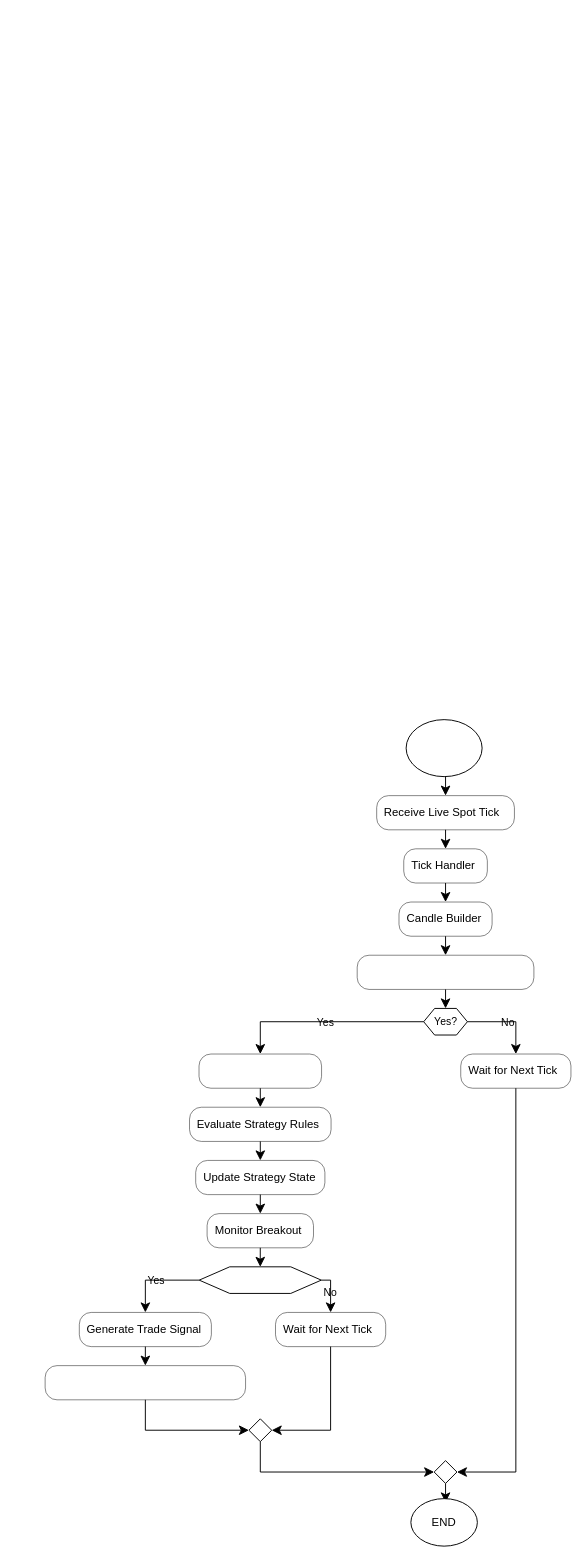
This 587x1563 diagram has some shape labels left out. The centre of each missing label's shape, as x and y in pixels:
"Breakout Confirmed?" belongs at pixel 259 1279.
"Calculate Indicators" belongs at pixel 259 1070.
"Is 5-Minute Candle Complete?" belongs at pixel 445 972.
"Send Signal to Virtual Trade Engine" belongs at pixel 144 1382.
"START" belongs at pixel 443 748.
